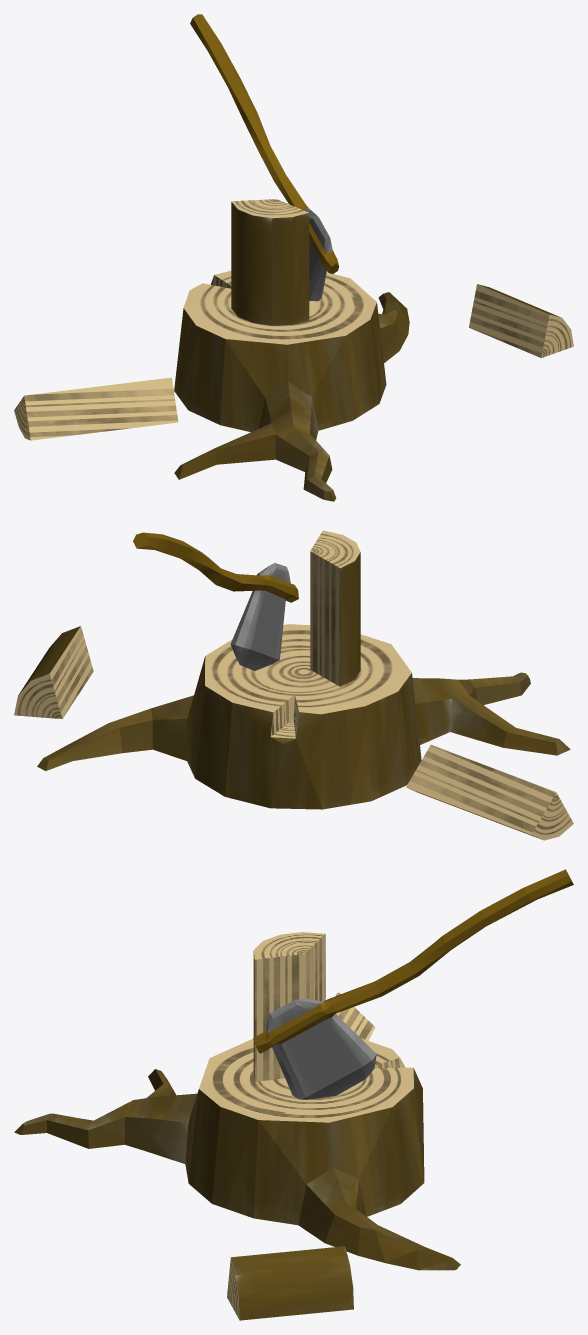
The model's file is WoodChopping.fbx.
The picture shows the model from 3 angles, top to bottom: view 1: azimuth 30°, elevation 25°; view 2: azimuth 150°, elevation 25°; view 3: azimuth 270°, elevation 25°; orthographic projection. The views are drawn at different scales.
Visible parts, largest first — view 1: WoodChopping; view 2: WoodChopping; view 3: WoodChopping.
Part boxes in pixels (left/top/right/bottom): WoodChopping: left=14, top=14, right=573, bottom=501; WoodChopping: left=14, top=530, right=573, bottom=840; WoodChopping: left=14, top=869, right=573, bottom=1320.
Bounding box in the file's own units: 1.76 × 0.9389 × 1.47.
